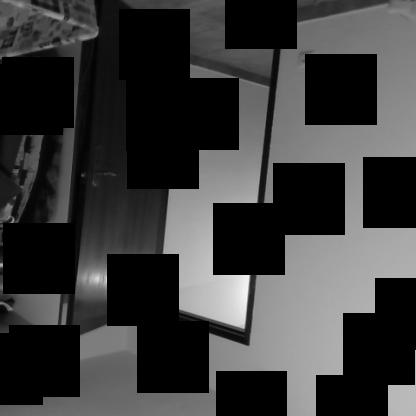Porte: (62, 1, 284, 347)
